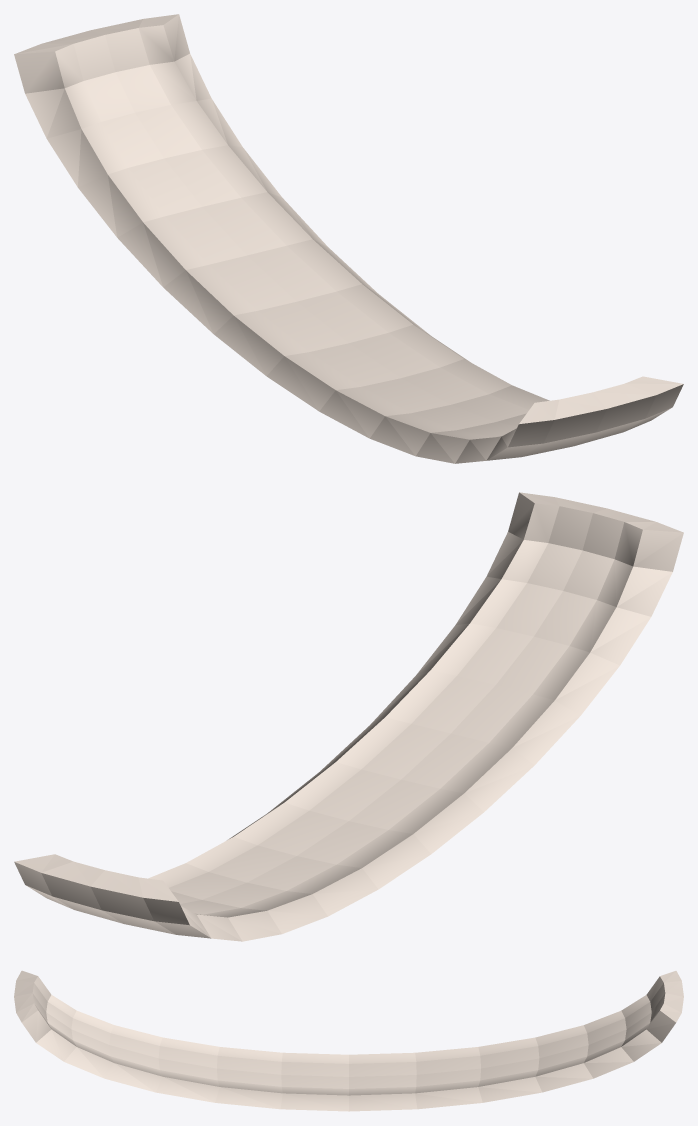
File: CabinetdoormeshDresserDoor_217_1_2_GeomSubset_0.obj
3 renders of one model, top to bottom at view 1: azimuth 30°, elevation 25°; view 2: azimuth 150°, elevation 25°; view 3: azimuth 270°, elevation 25°, orthographic. The views are drawn at different scales.
Visible parts, largest first — view 1: CabinetdoormeshDresserDoor_217_1_2_GeomSubset_0; view 2: CabinetdoormeshDresserDoor_217_1_2_GeomSubset_0; view 3: CabinetdoormeshDresserDoor_217_1_2_GeomSubset_0.
Boxes of the visible parts, bbox=[...] form: CabinetdoormeshDresserDoor_217_1_2_GeomSubset_0: bbox=[14, 14, 683, 463]; CabinetdoormeshDresserDoor_217_1_2_GeomSubset_0: bbox=[14, 492, 683, 941]; CabinetdoormeshDresserDoor_217_1_2_GeomSubset_0: bbox=[14, 970, 683, 1111].
Bounding box in the file's own units: 0.0153 × 0.0129 × 0.0828.
